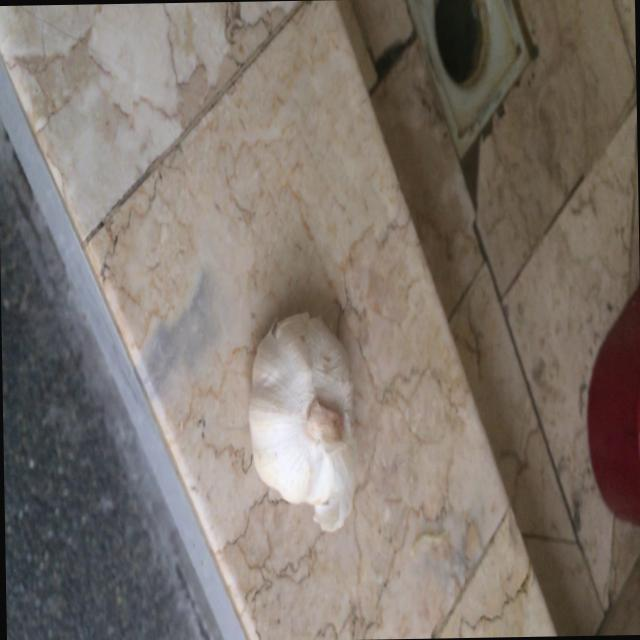bawang: (247, 310, 360, 538)
